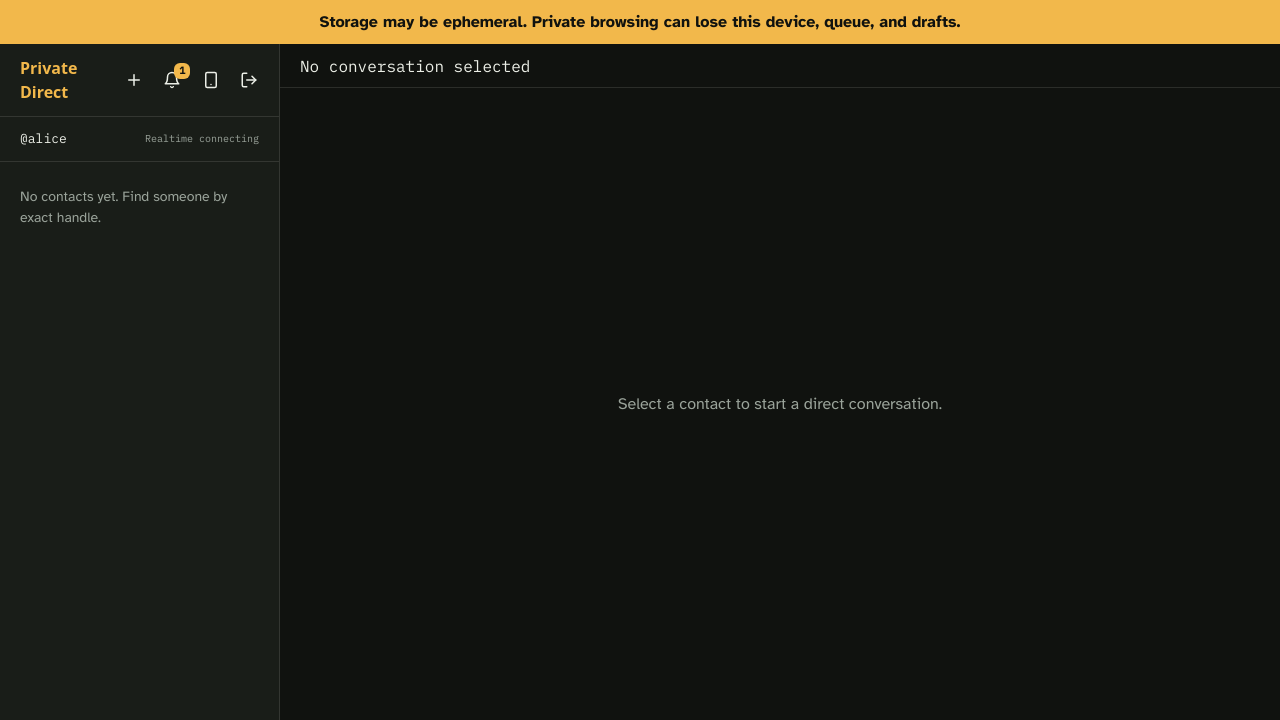
Test case: contact consent flow › rejects an incoming request without creating a contact
Click the button named "Incoming requests, 1 pending" at (172, 80), box [154, 62, 190, 98]
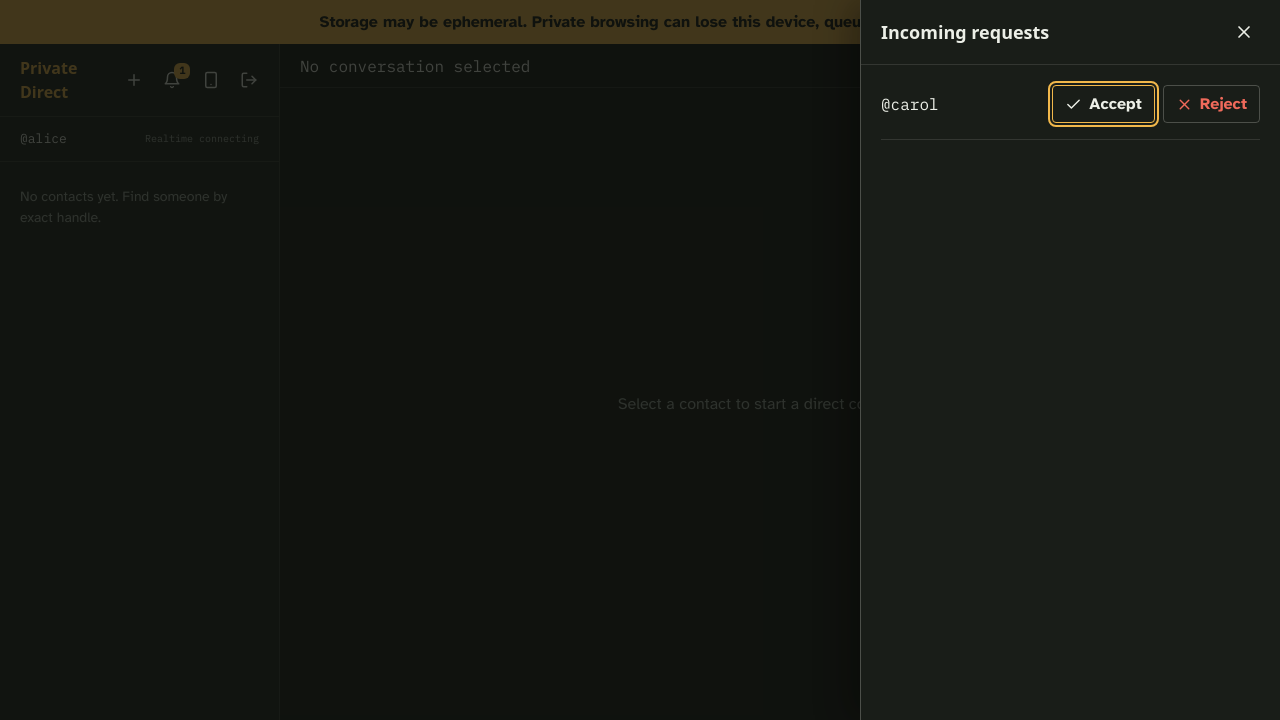
Click the button with aria-label "Reject @carol" at (1211, 104), box [1163, 85, 1260, 123]
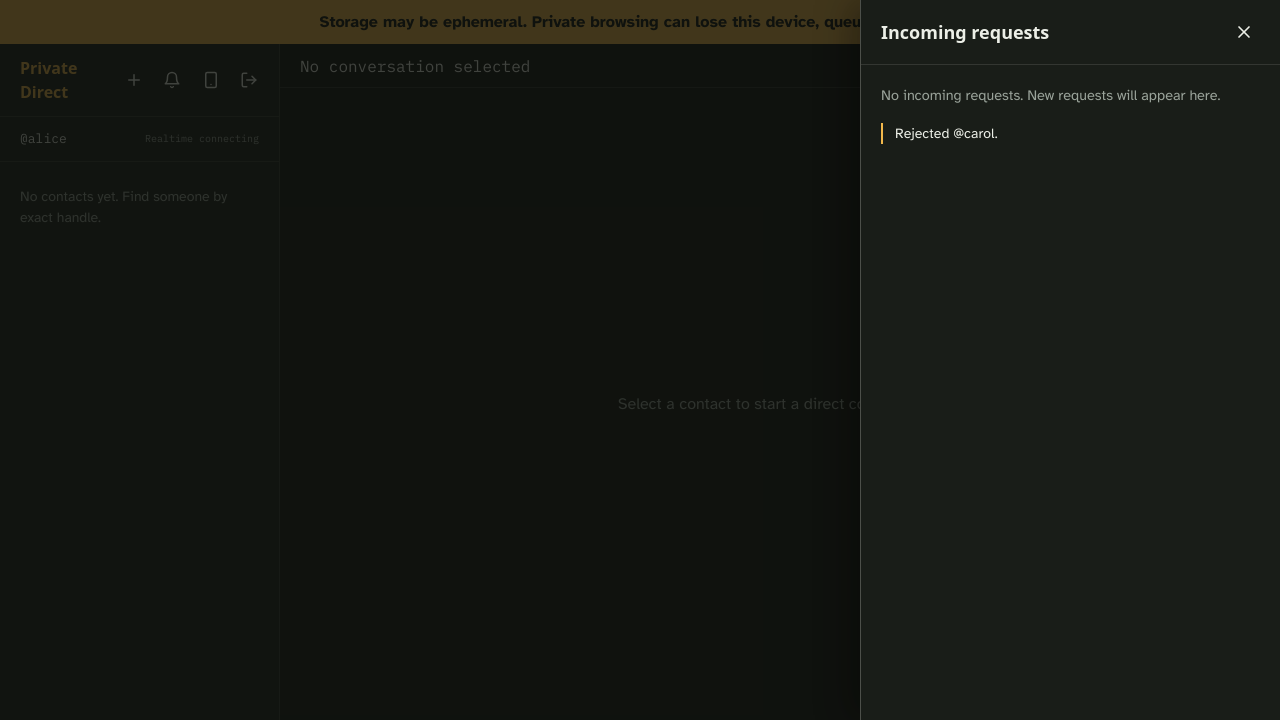
expect the text "No incoming requests. New requests will appear here." is shown: met, box [881, 85, 1260, 107]
